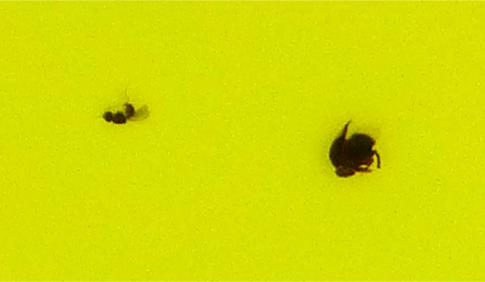Brachycera: (100, 100, 149, 128)
Coleoptera: (323, 120, 385, 182)
